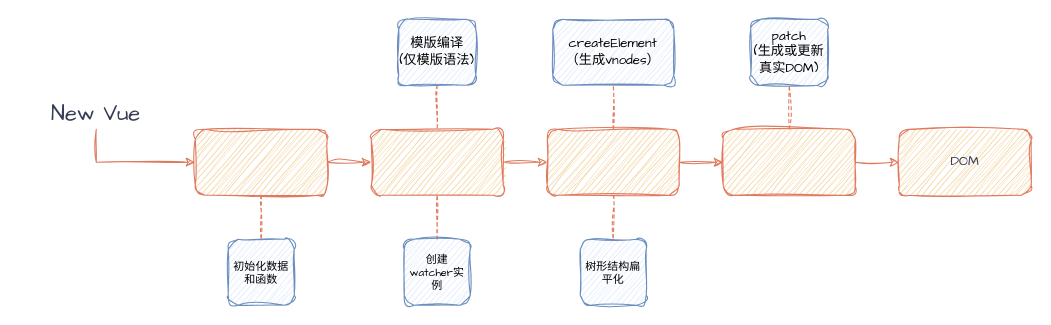
Image size: 1051x325. Some labels were removed from this diagram. Here are the shapes that lost their labels. From the top down, the centre of each, then its label:
At pixel 260 161: "init".
At pixel 436 161: "mount".
At pixel 612 161: "render".
At pixel 788 161: "update".
